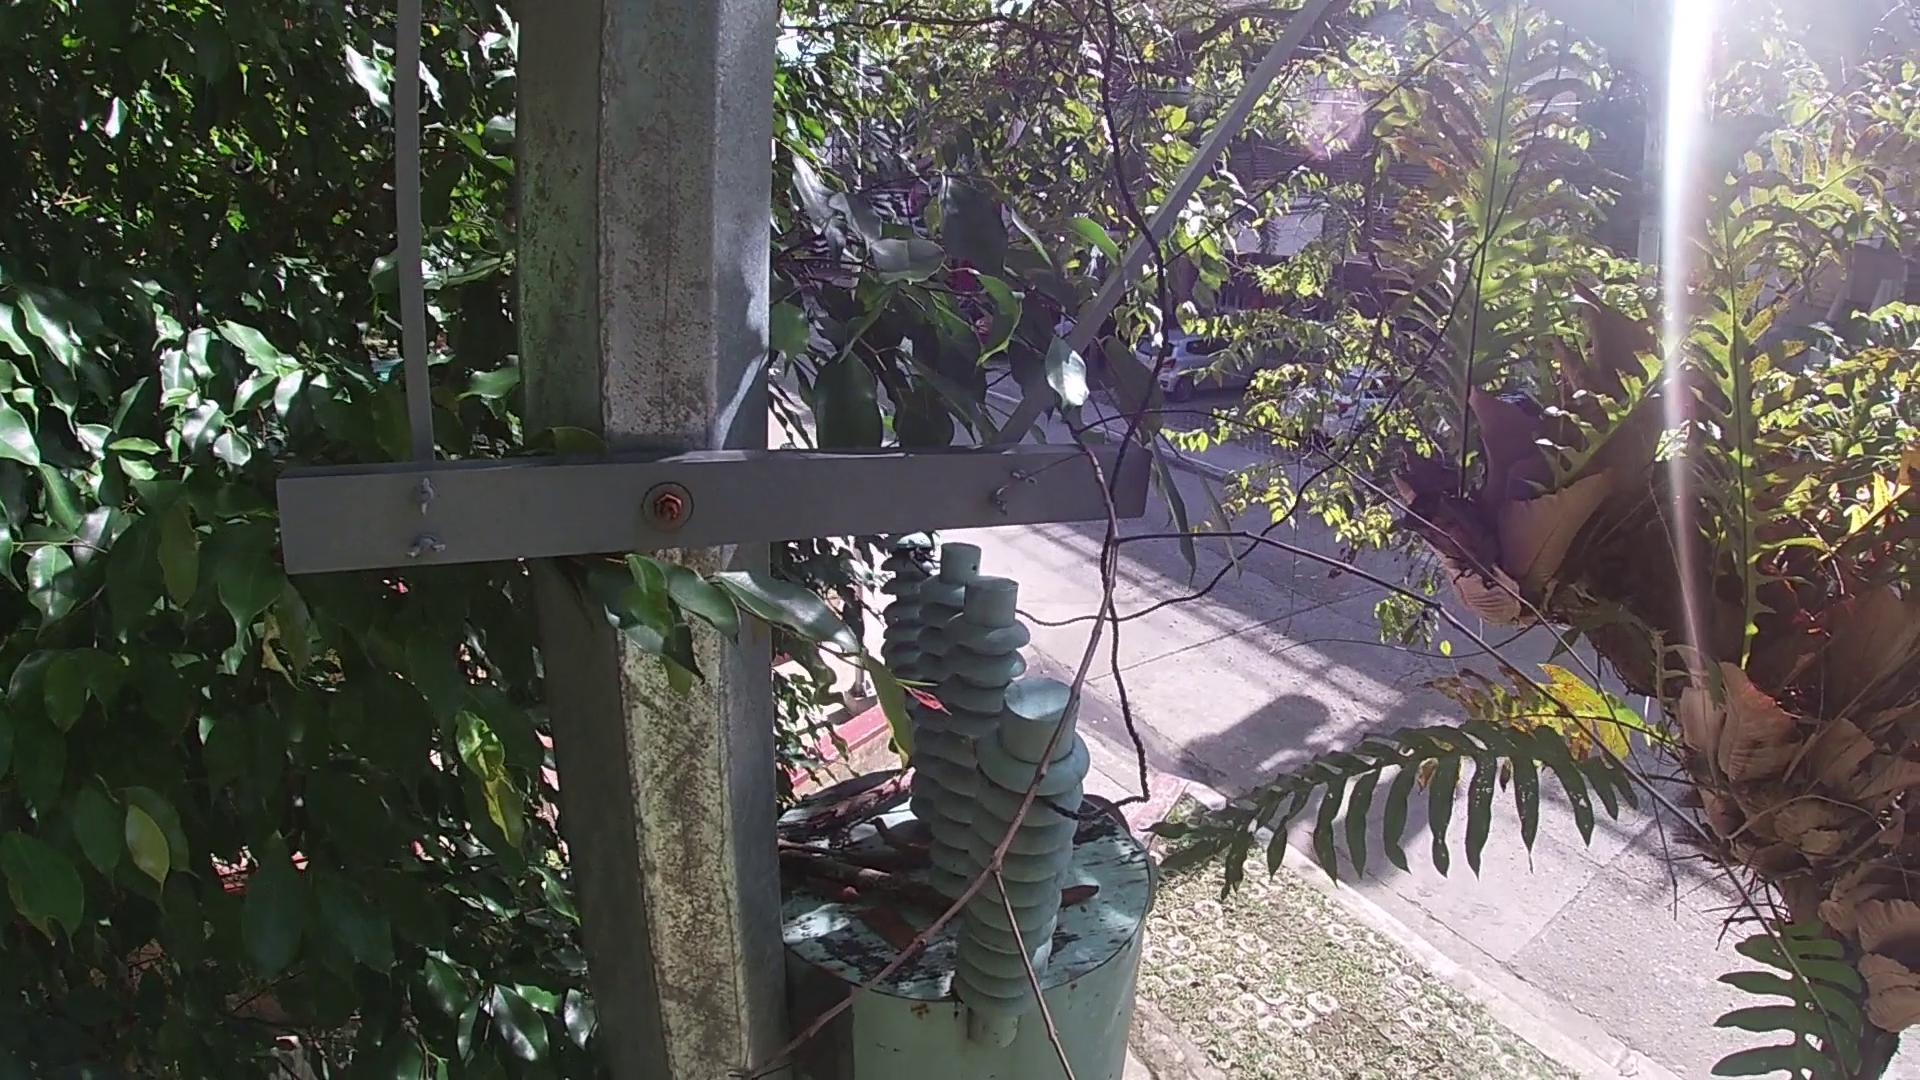leaf: (856, 907, 927, 963), (803, 872, 858, 903), (1055, 882, 1102, 913)
tree branch: (719, 377, 1855, 1077), (775, 844, 957, 913), (804, 767, 922, 845)
